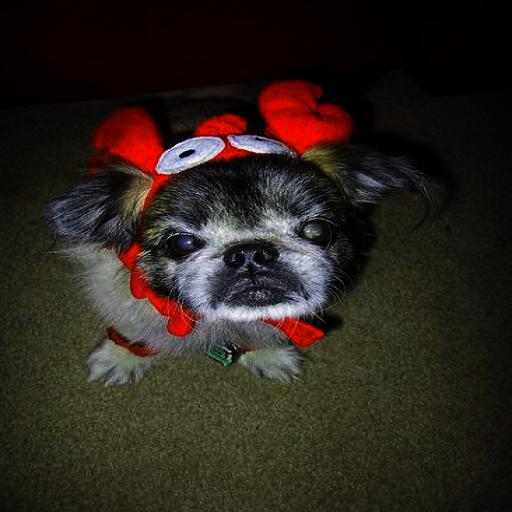dog_face: (66, 149, 436, 318)
